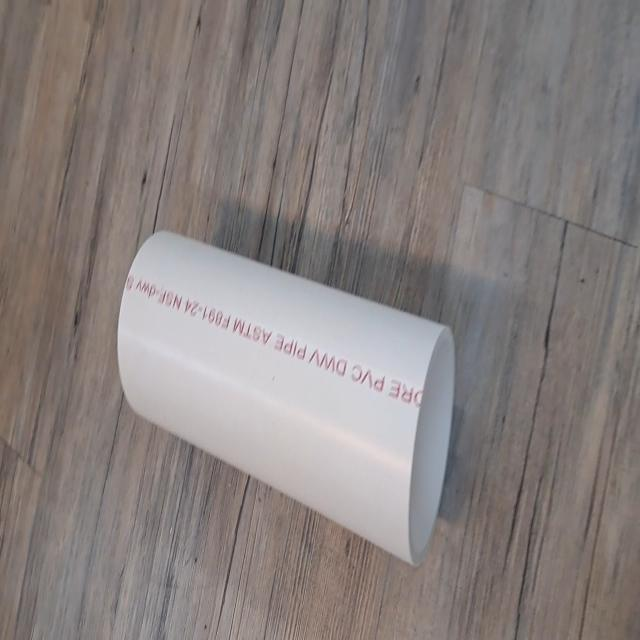CORAL: (86, 184, 472, 592)
